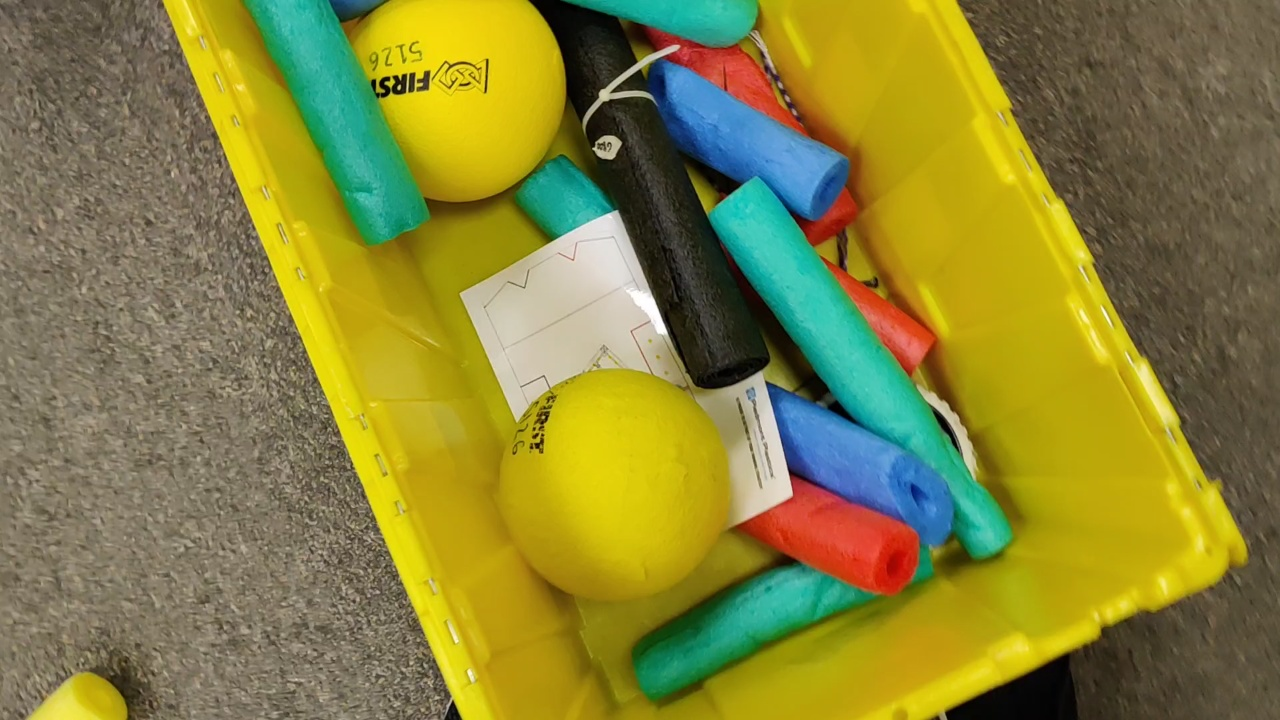Ball: (504, 368, 734, 600), (344, 1, 569, 204)
